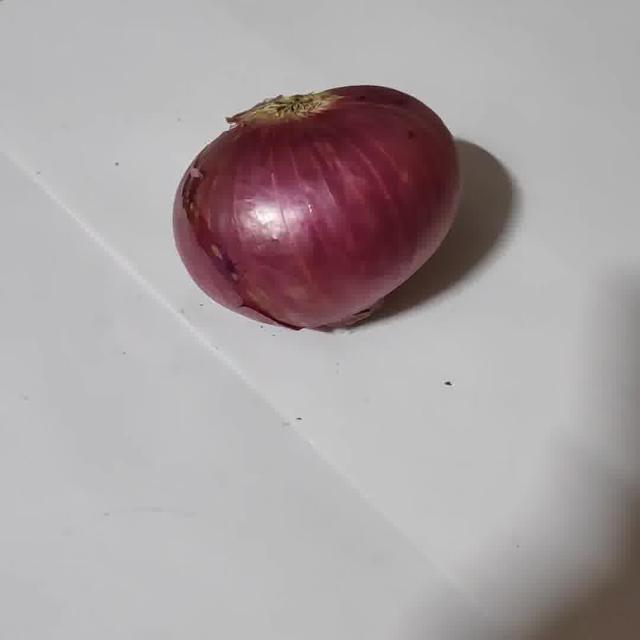Onion: (173, 85, 459, 331)
